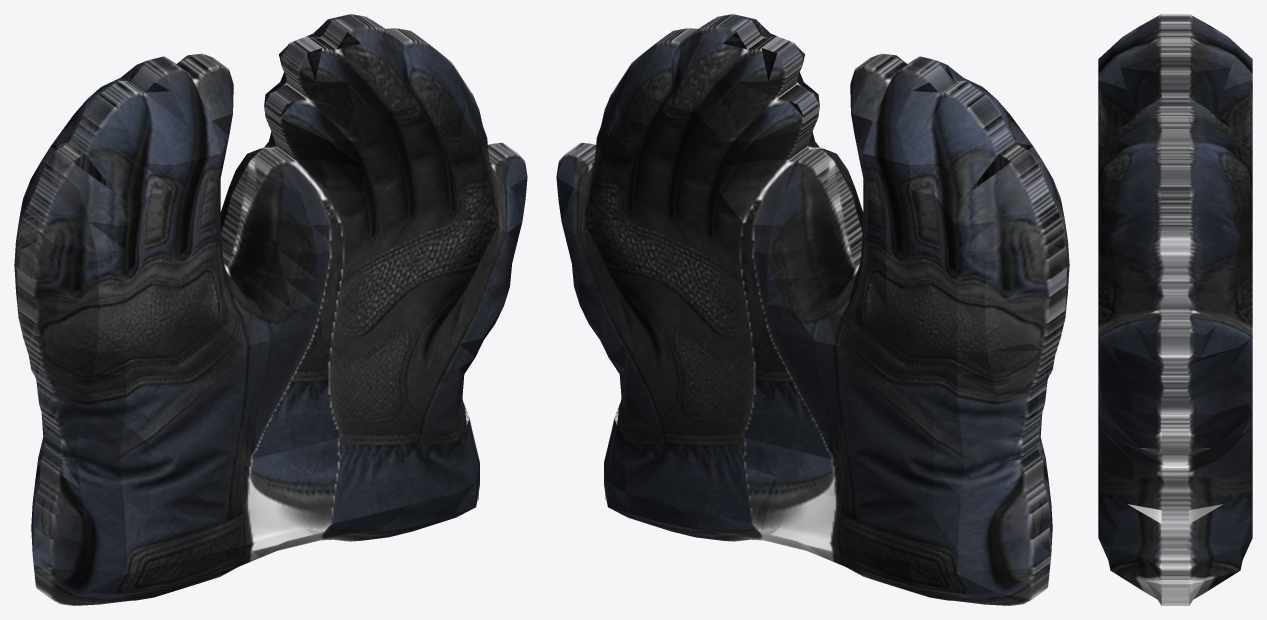
The model's file is shoei-vector-adventure-glove-104.glb.
3 views of the same model, side by side, from view 1: azimuth 30°, elevation 25°; view 2: azimuth 150°, elevation 25°; view 3: azimuth 270°, elevation 25° (orthographic). The views are drawn at different scales.
Parts seen in each view (by area): view 1: world; view 2: world; view 3: world.
Boxes of the visible parts, x1,y1,x2,y2 form: world: (14, 14, 527, 605); world: (556, 14, 1069, 605); world: (1098, 14, 1252, 605).
Size of the model in its own units: 0.9873 by 1 by 0.3.
1 material, 1 textured.
